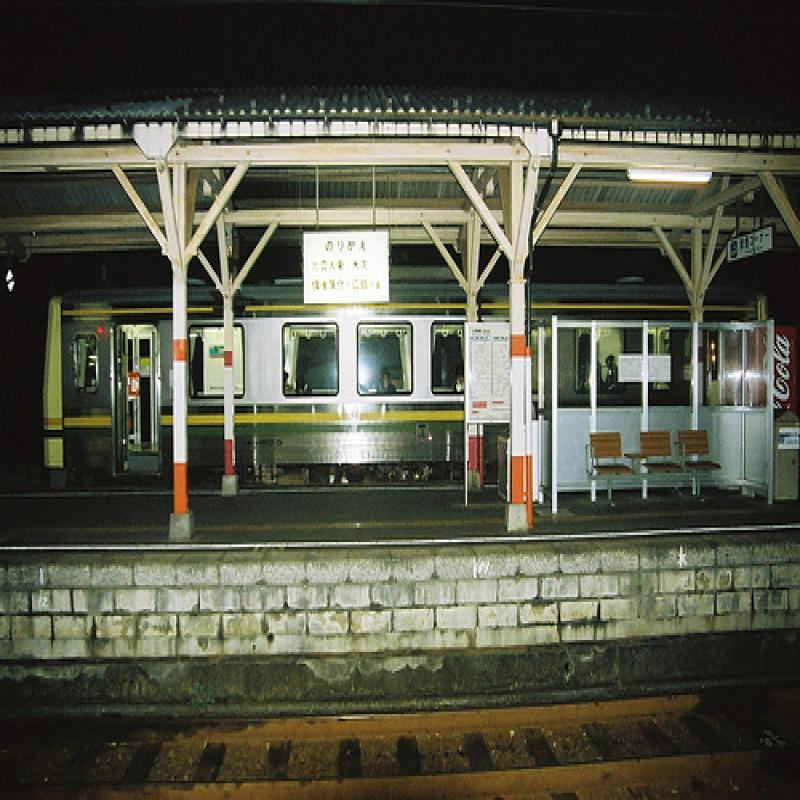train: (43, 285, 772, 493)
